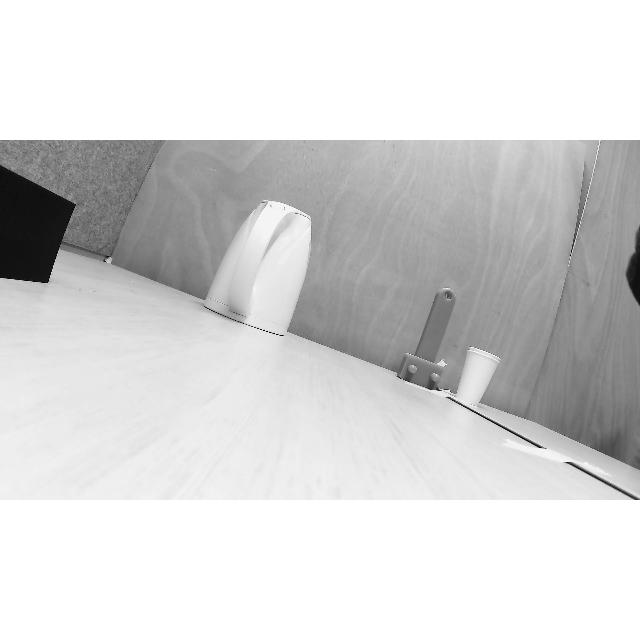targets: (210, 207, 322, 329), (0, 152, 76, 287), (398, 279, 464, 387), (458, 344, 500, 404)
